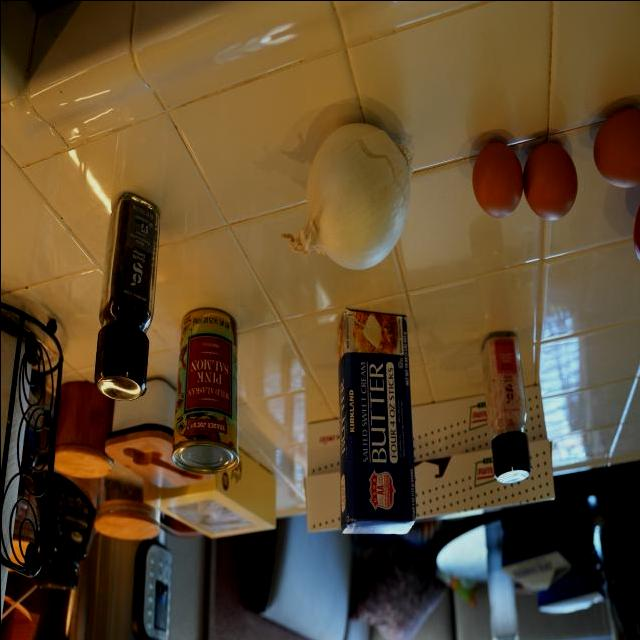bell_pepper: (94, 183, 160, 409)
egg: (515, 138, 583, 228), (466, 138, 532, 224), (589, 106, 639, 191)
onion: (286, 113, 428, 275)
